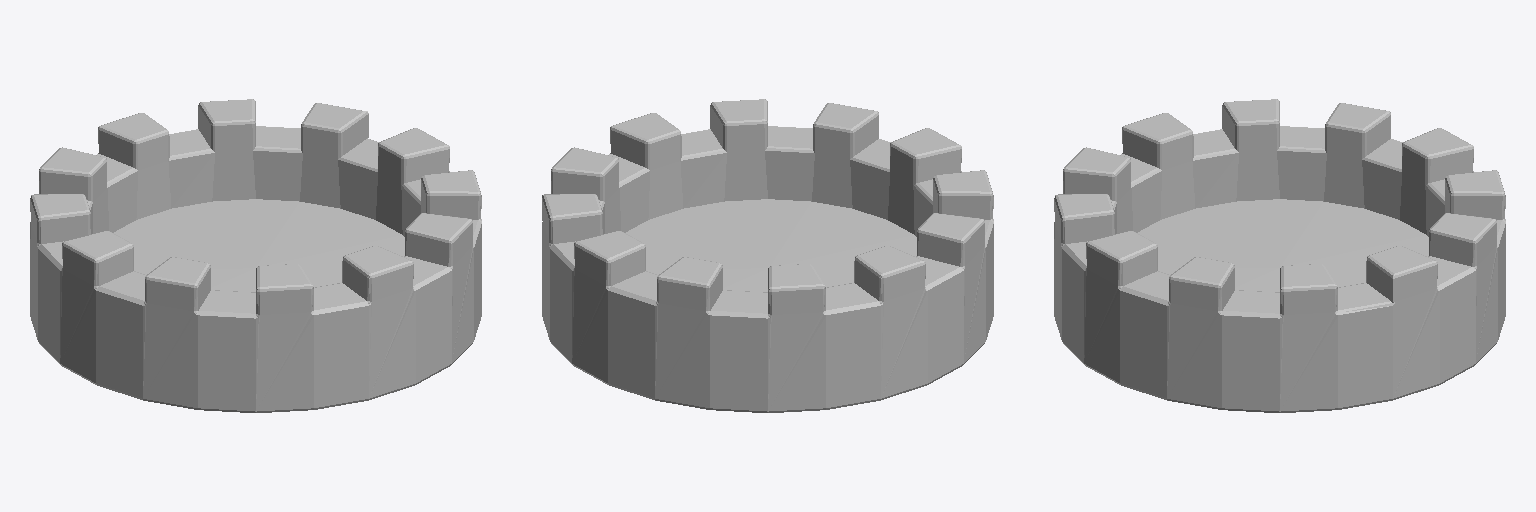
File: FountainBaseOBJ.obj
The picture shows the model from 3 angles: view 1: azimuth 30°, elevation 25°; view 2: azimuth 150°, elevation 25°; view 3: azimuth 270°, elevation 25°; orthographic projection.
Bounding box in the file's own units: 400 × 124 × 400.